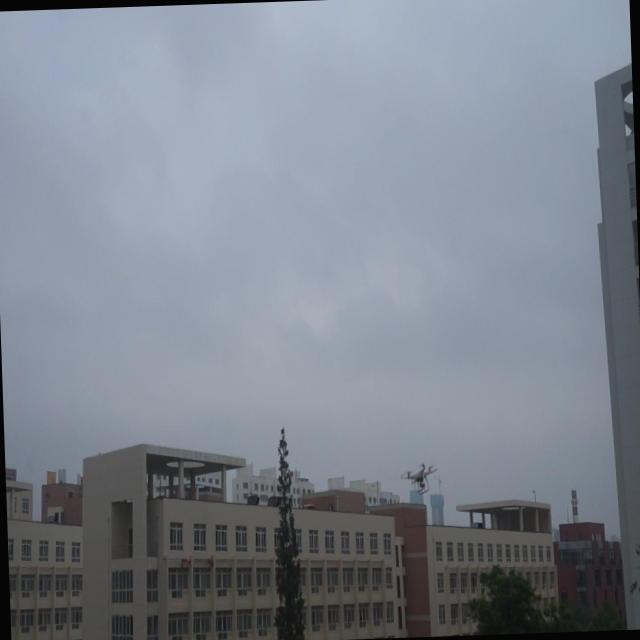drone: (397, 457, 437, 498)
